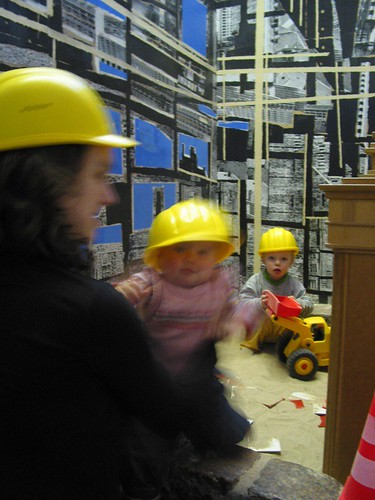person hardhat: (1, 65, 174, 495), (123, 196, 255, 452), (247, 223, 296, 366)
